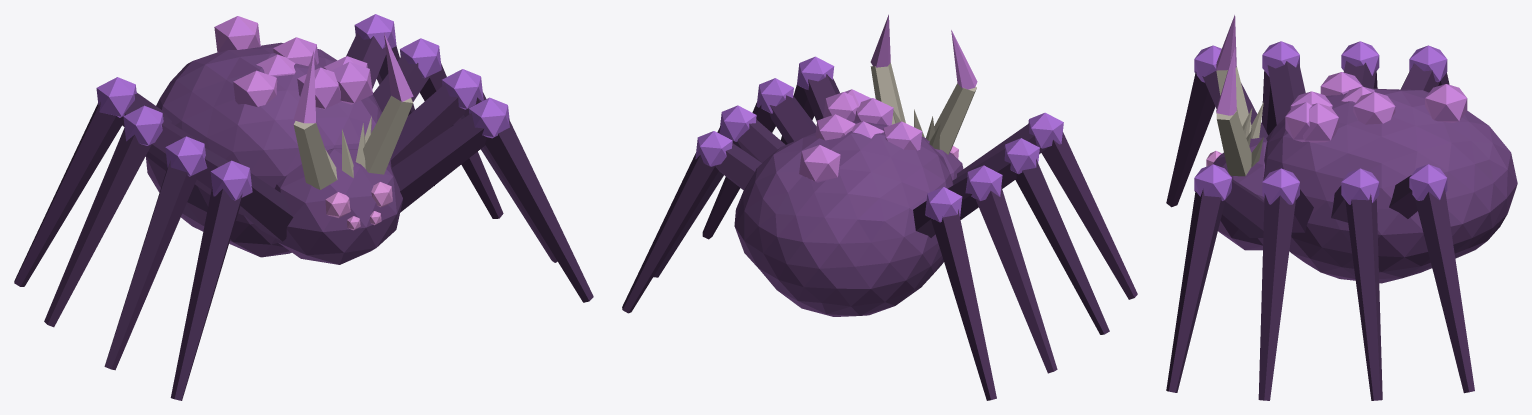
Rendered from enemy_matron.glb.
3 views of the same model, side by side, from view 1: azimuth 30°, elevation 25°; view 2: azimuth 150°, elevation 25°; view 3: azimuth 270°, elevation 25° (orthographic). The views are drawn at different scales.
Visible parts, largest first — view 1: enemy_matron; view 2: enemy_matron; view 3: enemy_matron.
Boxes of the visible parts, bbox=[...] form: enemy_matron: bbox=[14, 14, 593, 400]; enemy_matron: bbox=[622, 14, 1137, 400]; enemy_matron: bbox=[1166, 15, 1517, 400].
Bounding box in the file's own units: 4.97 × 2.97 × 3.51.
